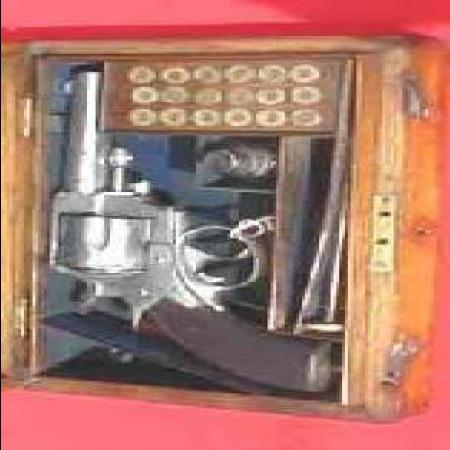Pistol: (38, 69, 330, 397)
